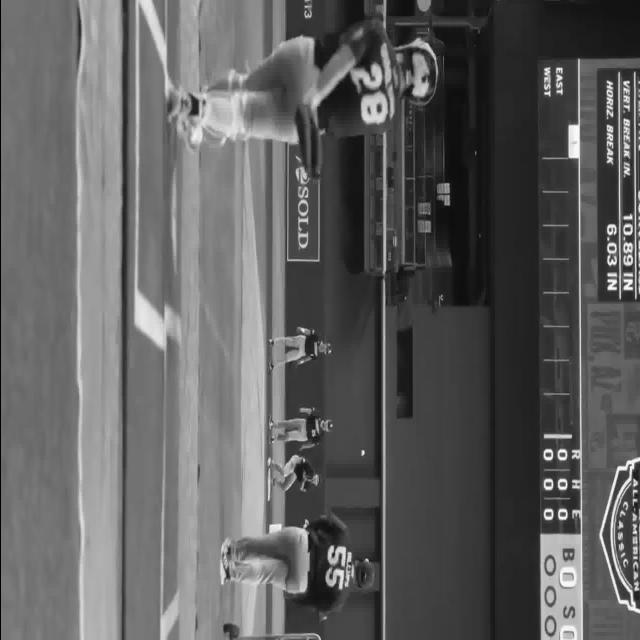base: (267, 443, 269, 507)
baseball: (360, 448, 364, 456)
baseball_glove: (294, 101, 322, 180)
shoe: (166, 87, 192, 123), (176, 118, 202, 152), (223, 622, 239, 638), (220, 560, 230, 584), (220, 537, 230, 555), (268, 415, 273, 429), (268, 361, 274, 372), (268, 338, 274, 346), (269, 435, 274, 443), (266, 457, 270, 467)
